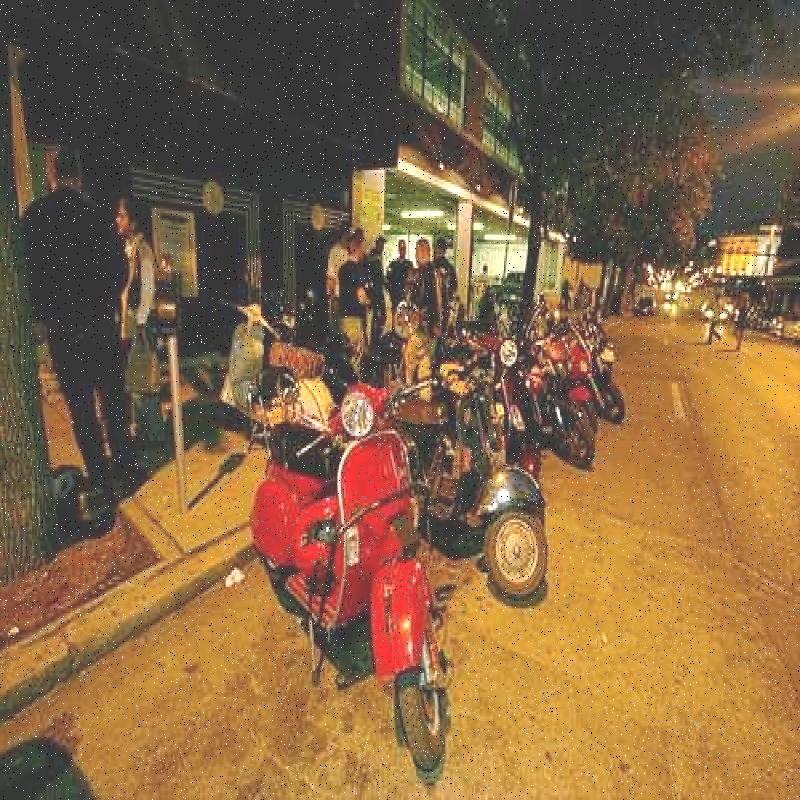bike: (232, 363, 447, 787)
